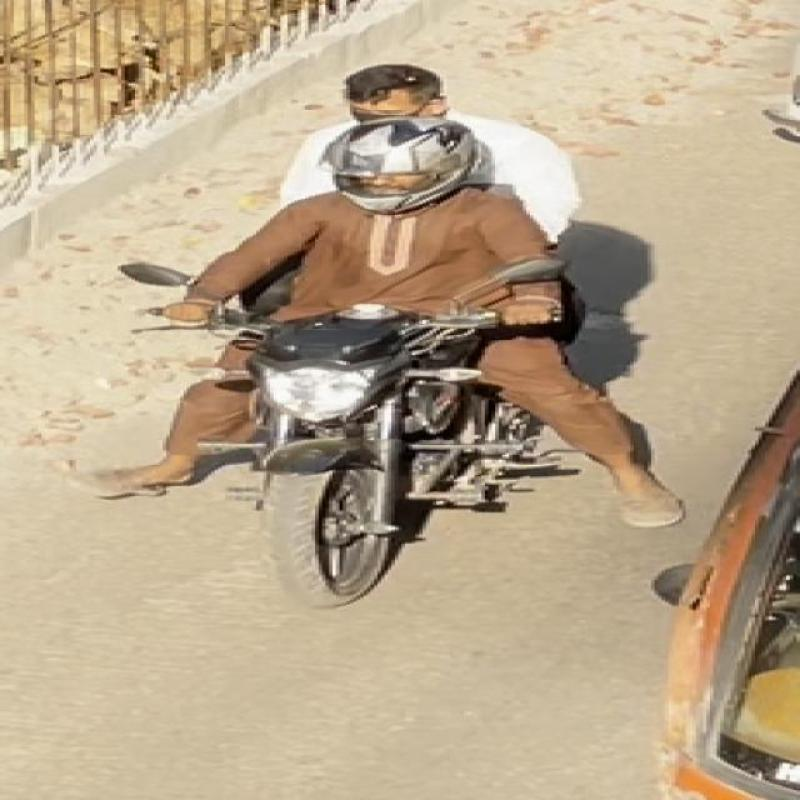nohelmet: (319, 62, 490, 118)
